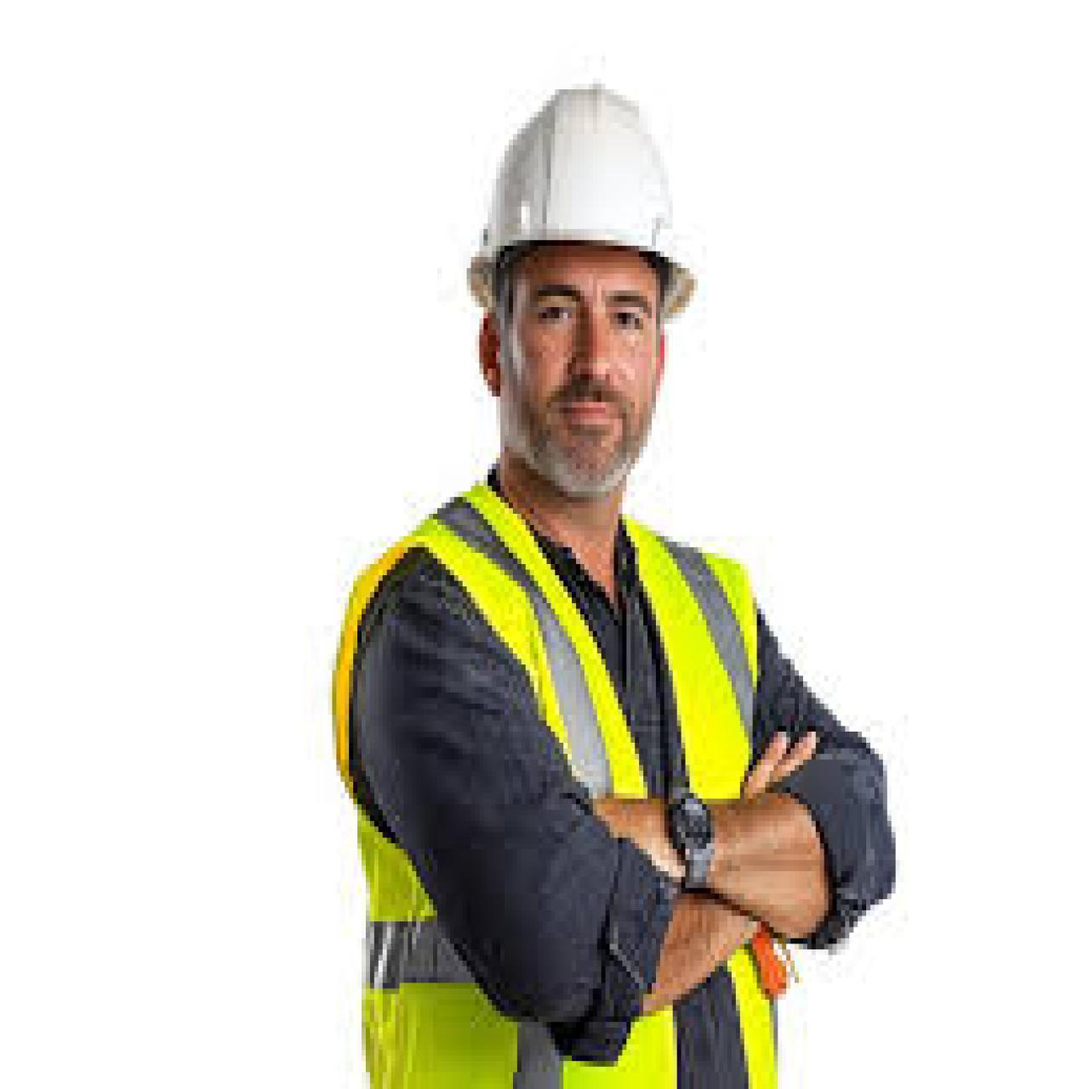Person: (296, 56, 911, 1089)
Safety_Vest: (327, 471, 784, 1089)
